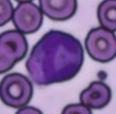E: (27, 29, 84, 84)
